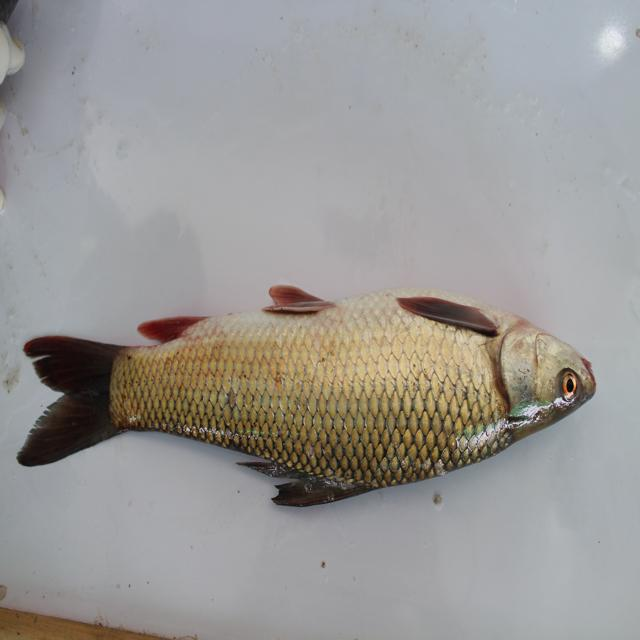Mori: (22, 274, 602, 508)
